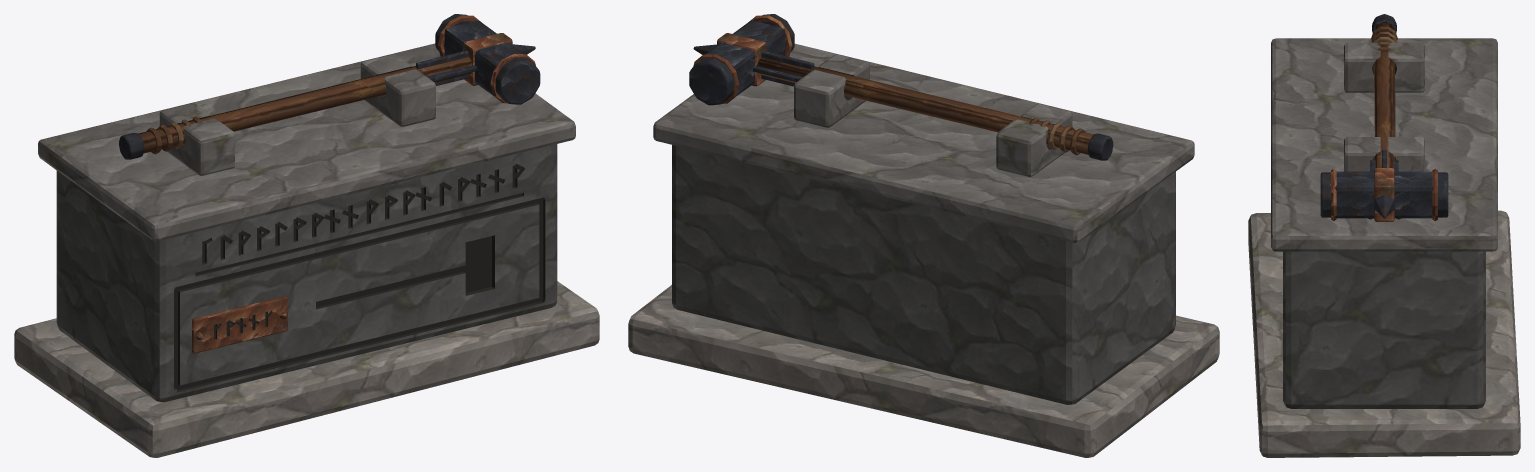
The model's file is th_hammer_rest.glb.
3 views of the same model, side by side, from view 1: azimuth 30°, elevation 25°; view 2: azimuth 150°, elevation 25°; view 3: azimuth 270°, elevation 25° (orthographic). The views are drawn at different scales.
Visible parts, largest first — view 1: model; view 2: model; view 3: model.
Part boxes in pixels (box(x1,y1,x2,y2)): model: box(14, 14, 599, 457); model: box(628, 14, 1219, 457); model: box(1248, 14, 1520, 457).
Size of the model in its own units: 1.27 by 0.725 by 0.6717.
Materials: 9 (8 with a texture image).
